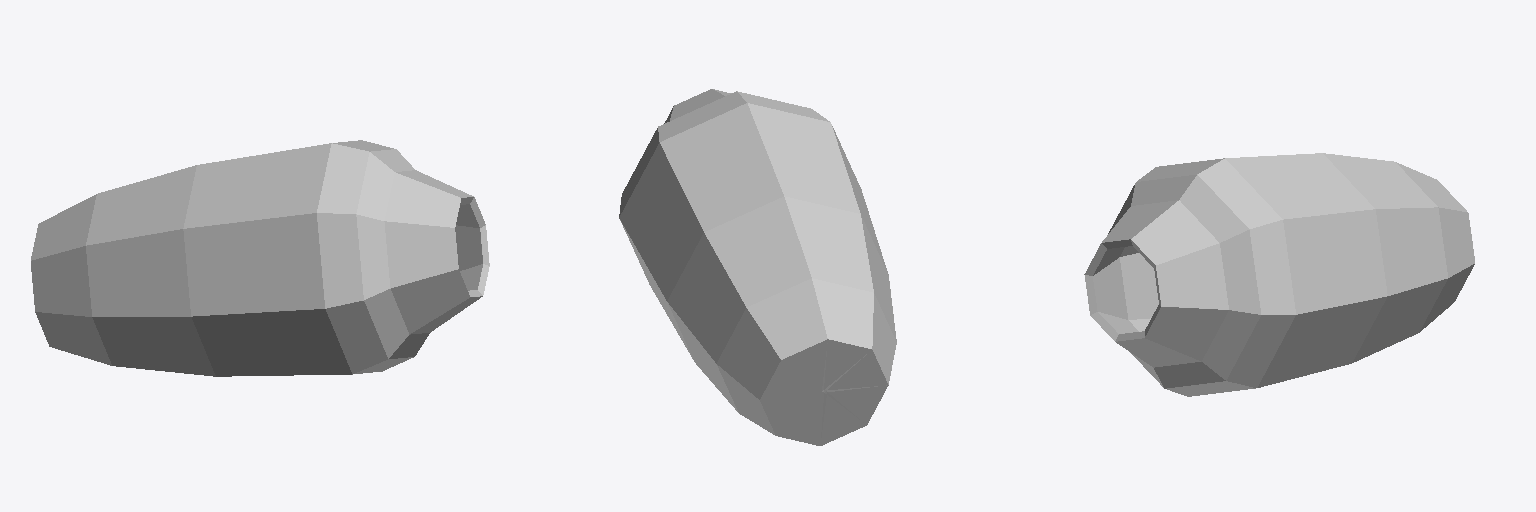
The model's file is vase_1_006.obj.
3 renders of one model, left to right at view 1: azimuth 30°, elevation 25°; view 2: azimuth 150°, elevation 25°; view 3: azimuth 270°, elevation 25°, orthographic.
Parts seen in each view (by area): view 1: vase_6_mug_1.003_Plane.009; view 2: vase_6_mug_1.003_Plane.009; view 3: vase_6_mug_1.003_Plane.009.
Part boxes in pixels (left/top/right/bottom): vase_6_mug_1.003_Plane.009: left=31, top=140, right=489, bottom=376; vase_6_mug_1.003_Plane.009: left=619, top=89, right=896, bottom=445; vase_6_mug_1.003_Plane.009: left=1084, top=153, right=1474, bottom=396.
Size of the model in its own units: 0.6594 by 0.4473 by 0.6538.